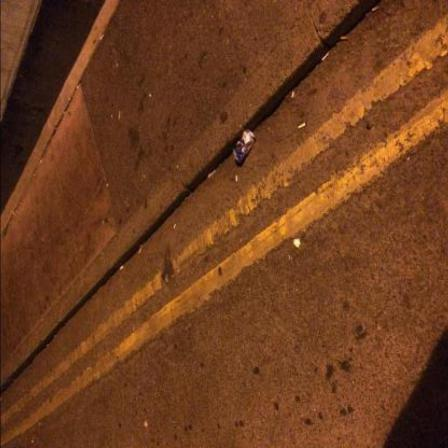Can: (234, 131, 256, 165)
Cigarette: (323, 52, 332, 63), (299, 124, 307, 130), (373, 7, 379, 13), (341, 37, 350, 40), (100, 35, 104, 41), (292, 93, 295, 99), (237, 176, 238, 182)
Unlabeled litter: (294, 240, 300, 249)
